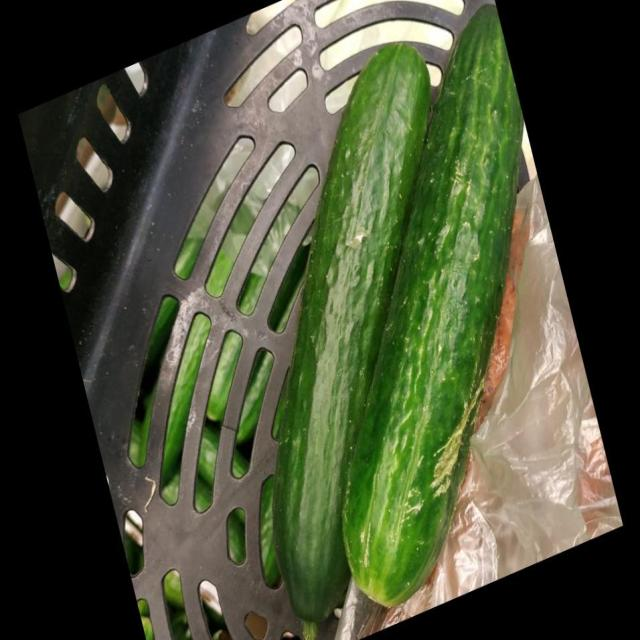carrot: (254, 130, 640, 404)
cucumber: (185, 189, 548, 613), (214, 21, 596, 67)
